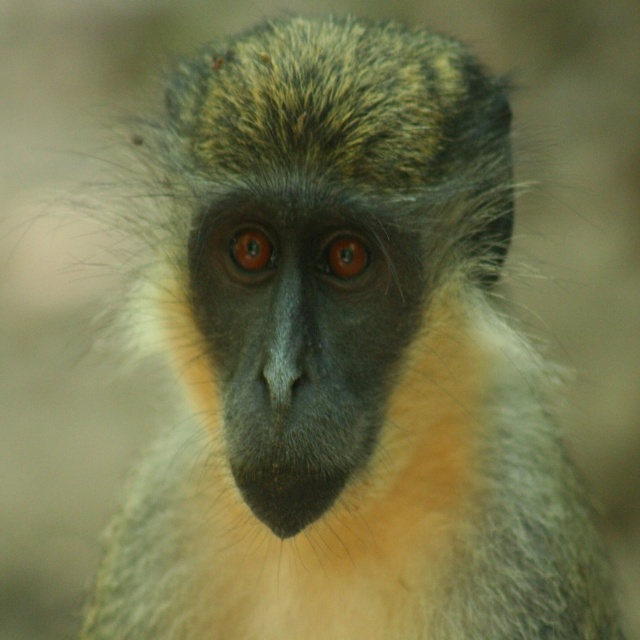Monkey: (0, 9, 627, 639)
